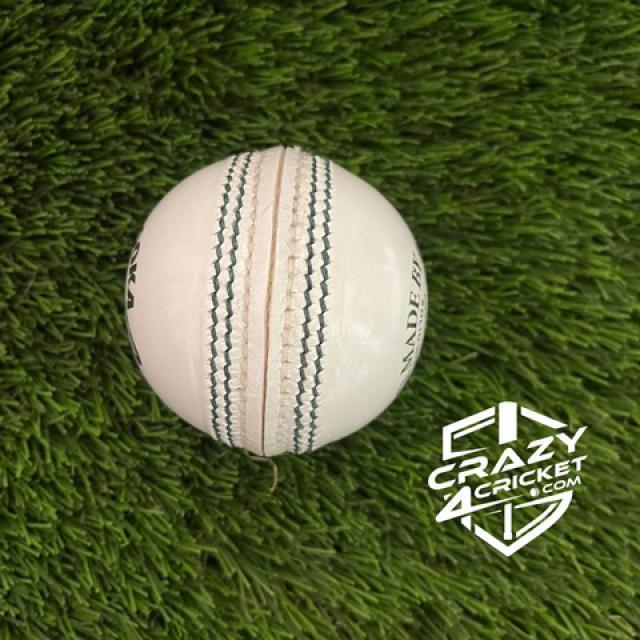cricket ball: (125, 145, 430, 457)
